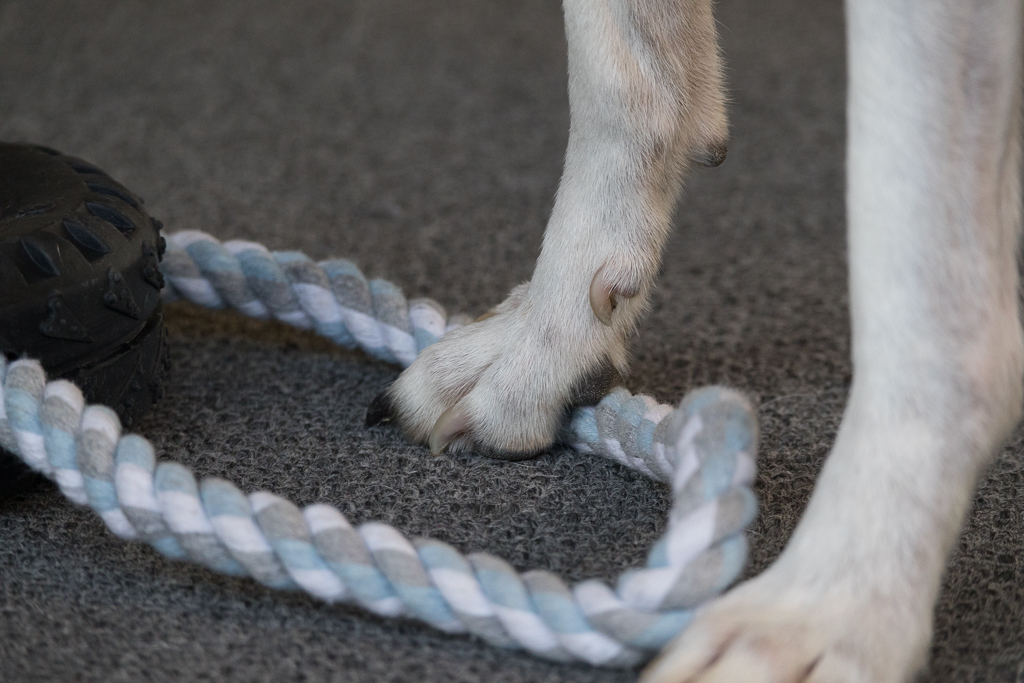Dog: (354, 0, 1024, 683)
